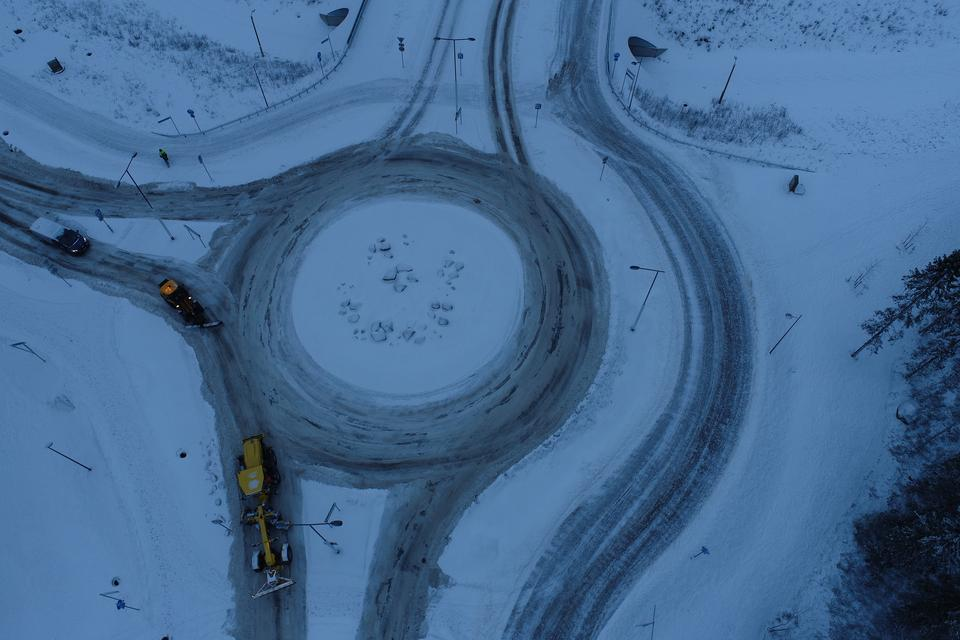intersection: (376, 49, 618, 124)
roundabout: (165, 131, 803, 573)
